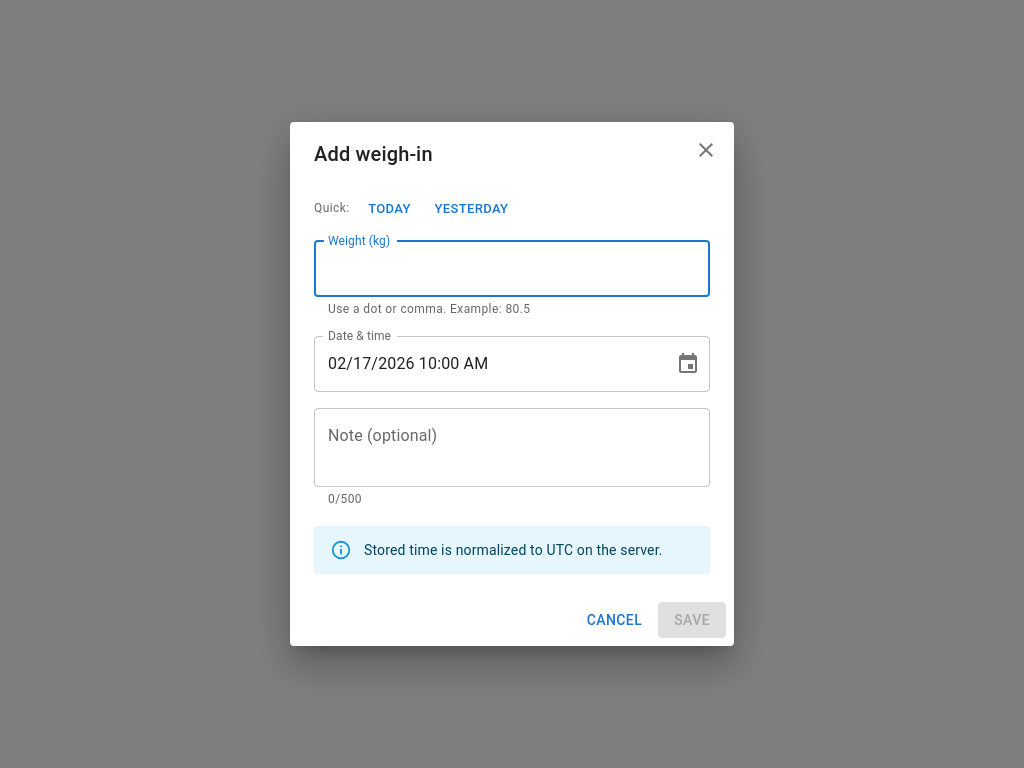
Test case: AddWeighInDialog › validates weight and blocks submit
Expected: the button "Save" is disabled, [658, 602, 726, 638]
Type "10" into the field labelled "Weight (kg)" at (512, 269), box [314, 241, 710, 297]
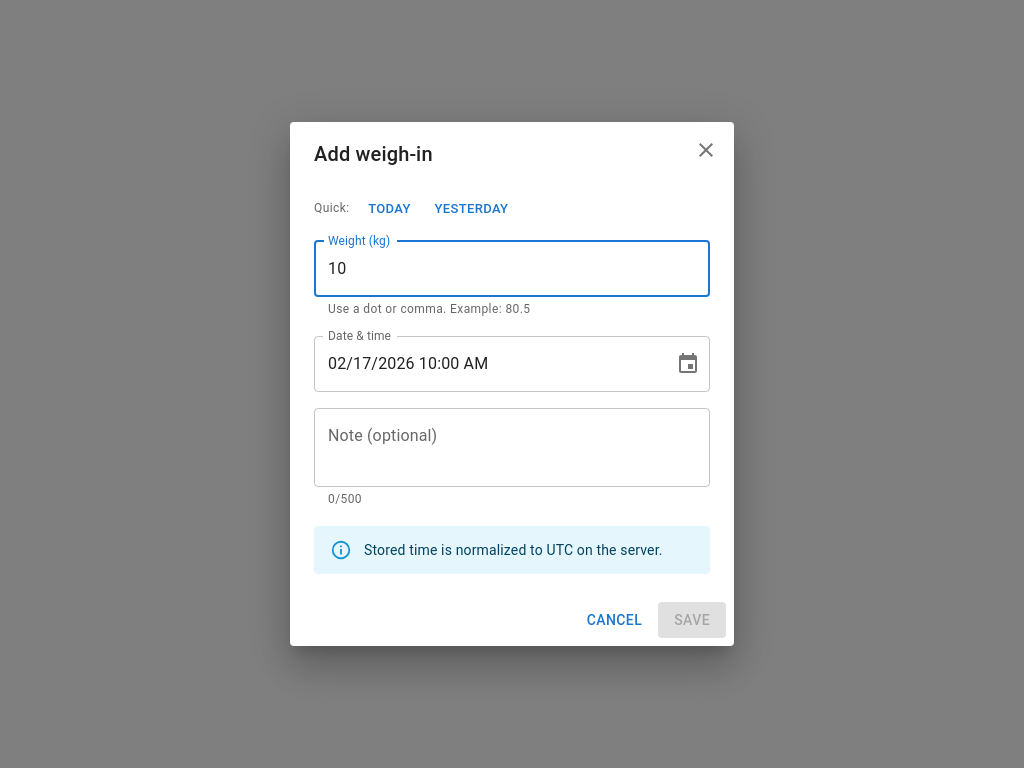
Press Tab
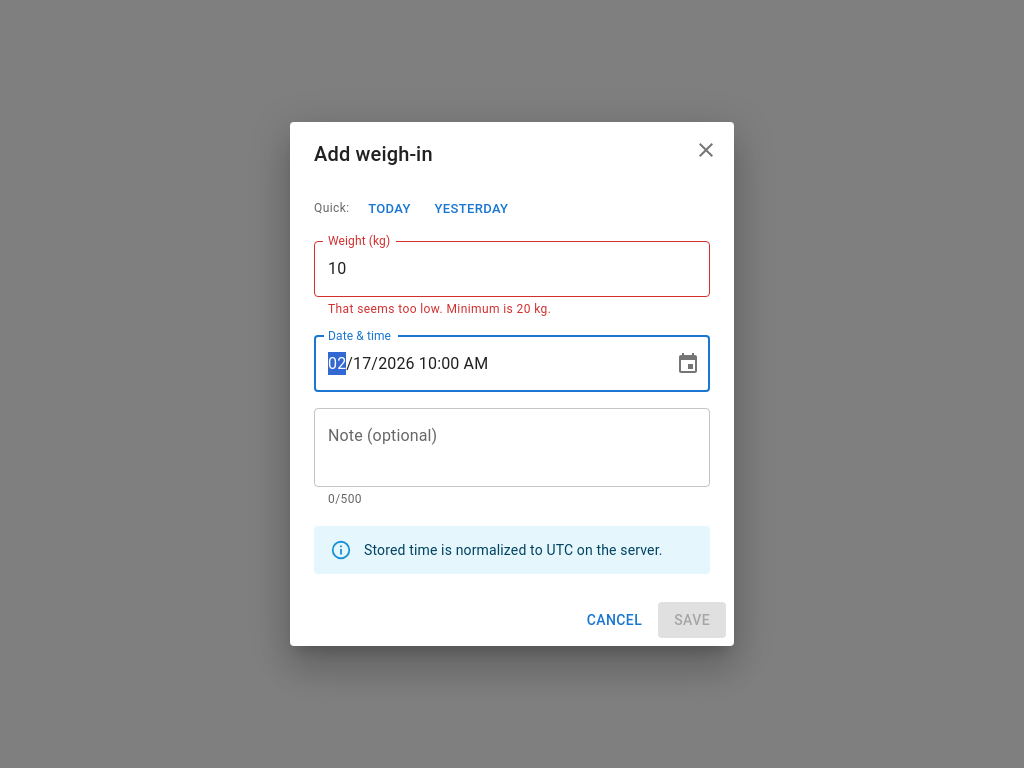
Expected: the button "Save" is disabled, [658, 602, 726, 638]
Result: the text "That seems too low. Minimum is 20 kg." is shown at [328, 302, 551, 316]
